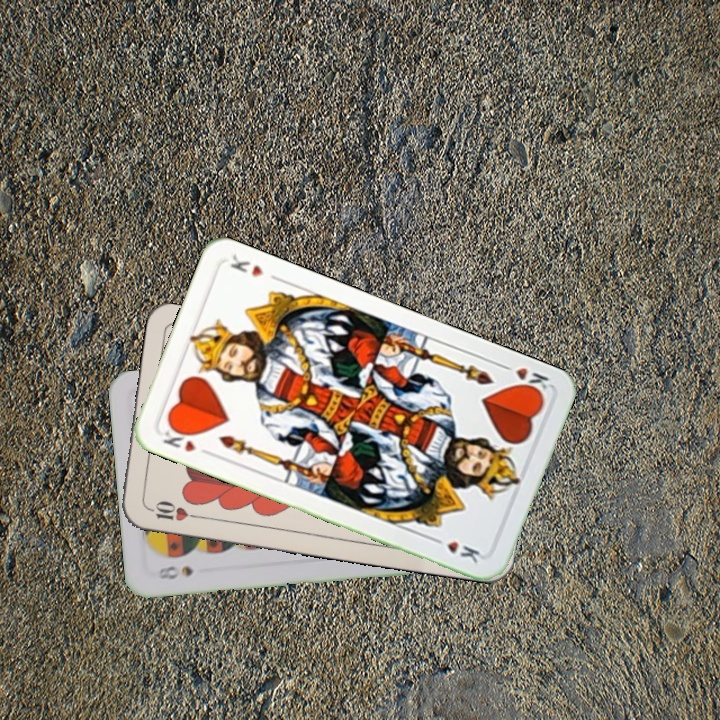H10: (143, 497, 202, 524)
HK: (496, 359, 552, 398), (158, 421, 198, 455)
S8: (154, 561, 196, 582)
